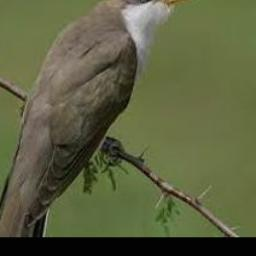Cuckoo: (0, 0, 198, 237)
